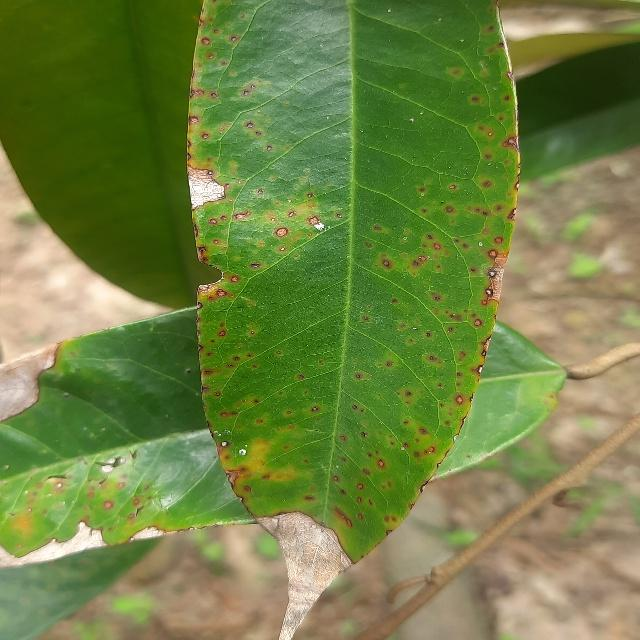Leaf Spot: (174, 0, 537, 640)
